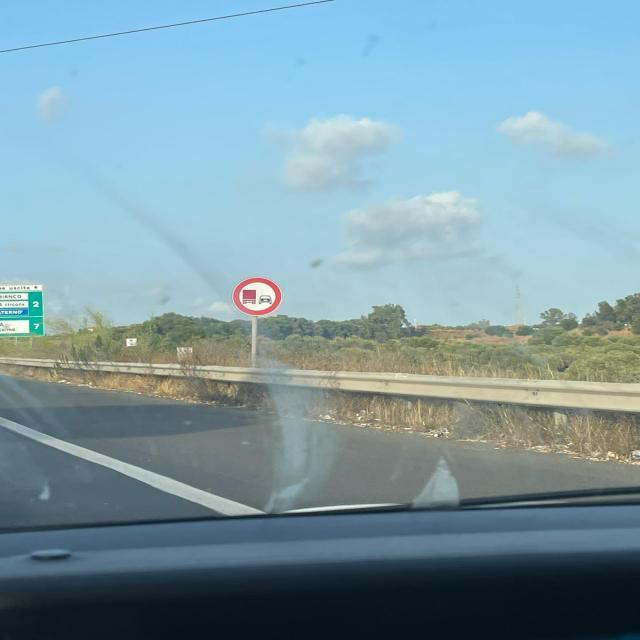forb_overtake_trucks: (231, 277, 283, 317)
